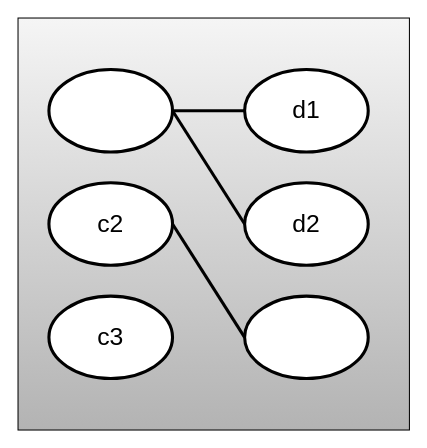
Image size: 427x448. Some labels were removed from this diagram. Each missing label, with the box of its shape:
c1: (47, 67, 174, 153)
d3: (243, 294, 369, 380)
